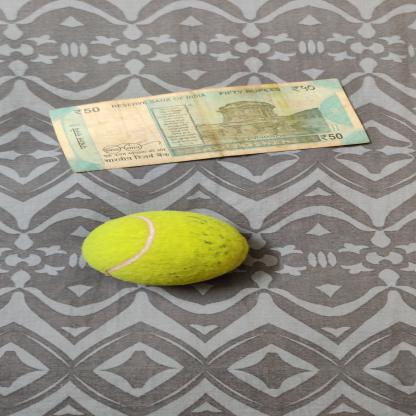New50Back: (46, 77, 372, 172)
